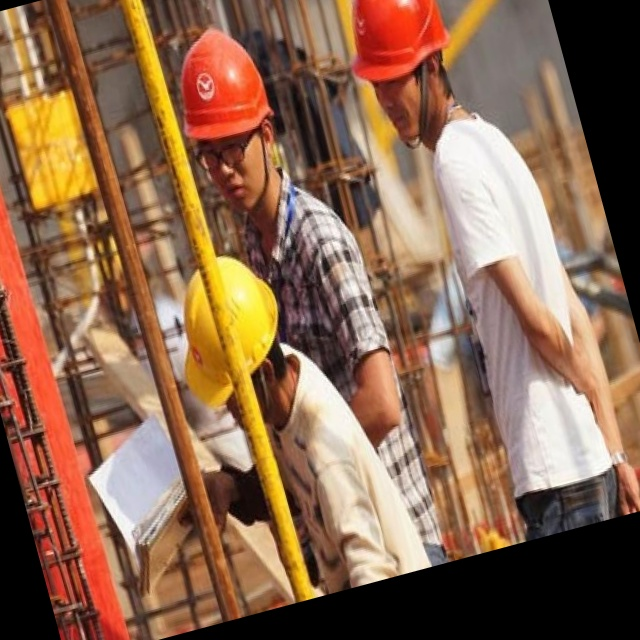Con_Casco: (164, 26, 293, 216), (336, 0, 466, 148)
Con_Chaleco: (417, 107, 612, 497)
